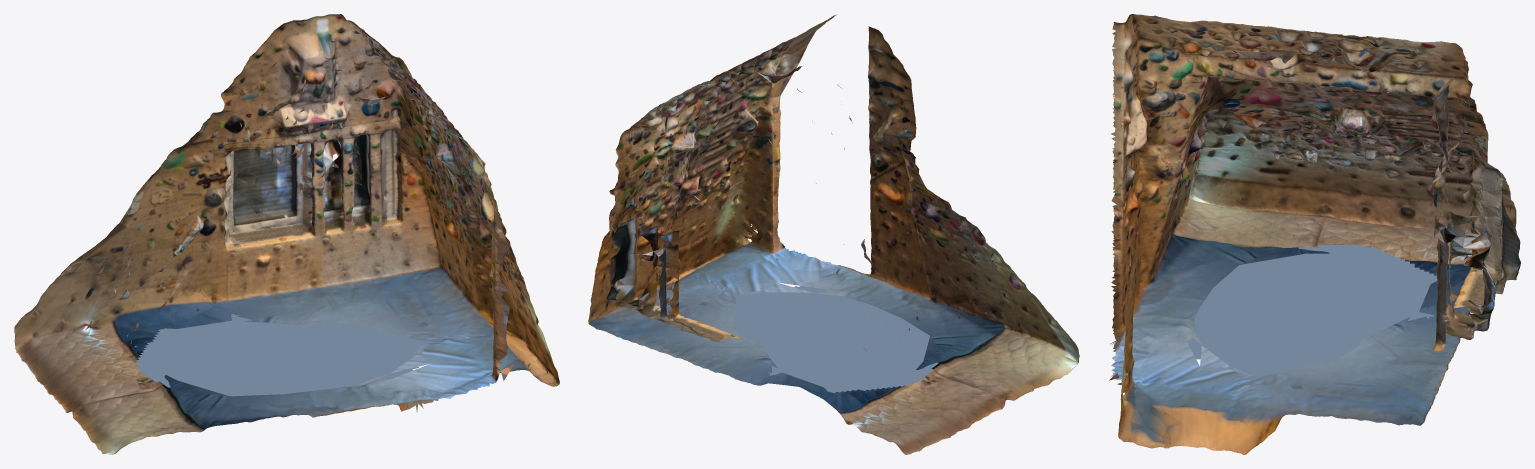
Rendered from scan-v2.glb.
The picture shows the model from 3 angles, left to right: view 1: azimuth 30°, elevation 25°; view 2: azimuth 150°, elevation 25°; view 3: azimuth 270°, elevation 25°; orthographic projection. The views are drawn at different scales.
Visible parts, largest first — view 1: mesh; view 2: mesh; view 3: mesh.
Part boxes in pixels (x1,y1,x2,y2): mesh: (14,14,559,454); mesh: (588,14,1079,454); mesh: (1109,14,1520,454).
Size of the model in its own units: 6 by 3.85 by 4.28.
1 material, 1 textured.
